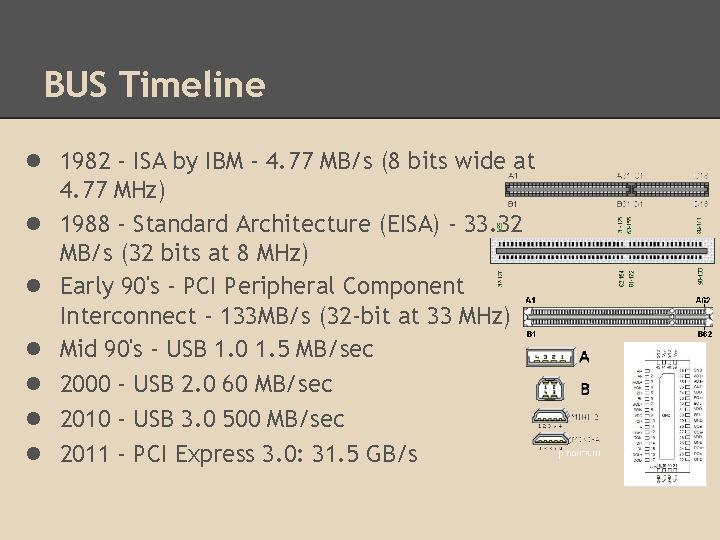paragraph: (20, 136, 555, 503)
title: (34, 60, 279, 107)
